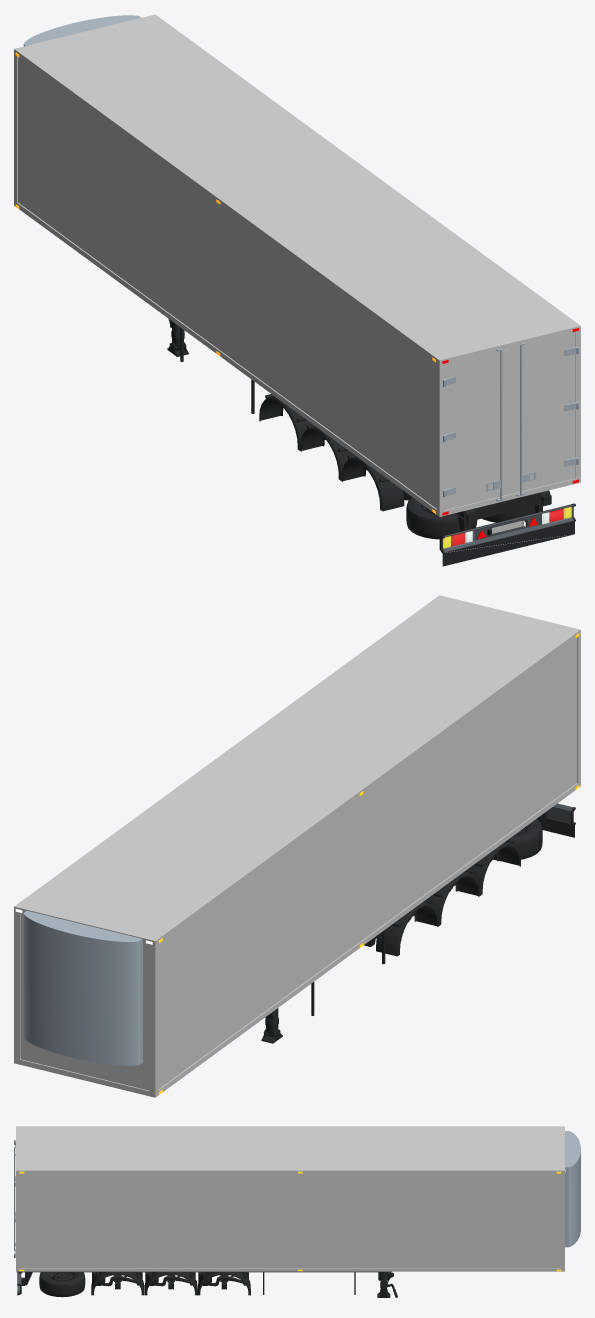
The model's file is trailer.anchored.glb.
3 views of the same model, one above another, from view 1: azimuth 30°, elevation 25°; view 2: azimuth 150°, elevation 25°; view 3: azimuth 270°, elevation 25° (orthographic). The views are drawn at different scales.
Visible parts, largest first — view 1: box01_nagel_auflieger_0_0, kotfluegel_ref map [spec]_0_3, ersatzraed_pneu2 [spec]_0_1, box01_ref map [sec,en_0_0, Box_ref map [spec]_0_3, Stossstang_Matte_ FFFFFFFF_0_0, box01_tk [spec]_0_0; view 2: box01_nagel_auflieger_0_0, box01_tk [spec]_0_0, kotfluegel_ref map [spec]_0_3, ersatzraed_pneu2 [spec]_0_1; view 3: box01_nagel_auflieger_0_0, box01_tk [spec]_0_0, kotfluegel_ref map [spec]_0_3, ersatzraed_pneu2 [spec]_0_1, Federung_Matte_ FF000013_0_3, Box_ref map [spec]_0_3.
Boxes of the visible parts, left/top/right/bottom form: box01_nagel_auflieger_0_0: left=14, top=14, right=580, bottom=566; kotfluegel_ref map [spec]_0_3: left=259, top=394, right=404, bottom=511; ersatzraed_pneu2 [spec]_0_1: left=406, top=497, right=535, bottom=539; box01_ref map [sec,en_0_0: left=443, top=342, right=579, bottom=501; Box_ref map [spec]_0_3: left=180, top=327, right=551, bottom=530; Stossstang_Matte_ FFFFFFFF_0_0: left=442, top=504, right=573, bottom=552; box01_tk [spec]_0_0: left=23, top=15, right=141, bottom=46; box01_nagel_auflieger_0_0: left=14, top=595, right=580, bottom=1097; box01_tk [spec]_0_0: left=23, top=911, right=142, bottom=1065; kotfluegel_ref map [spec]_0_3: left=376, top=839, right=520, bottom=956; ersatzraed_pneu2 [spec]_0_1: left=493, top=819, right=542, bottom=860; box01_nagel_auflieger_0_0: left=16, top=1126, right=564, bottom=1271; box01_tk [spec]_0_0: left=565, top=1131, right=580, bottom=1247; kotfluegel_ref map [spec]_0_3: left=91, top=1271, right=250, bottom=1295; ersatzraed_pneu2 [spec]_0_1: left=39, top=1272, right=85, bottom=1297; Federung_Matte_ FF000013_0_3: left=102, top=1272, right=248, bottom=1289; Box_ref map [spec]_0_3: left=17, top=1271, right=391, bottom=1294.
Size of the model in its own units: 2.59 by 3.64 by 13.73.
